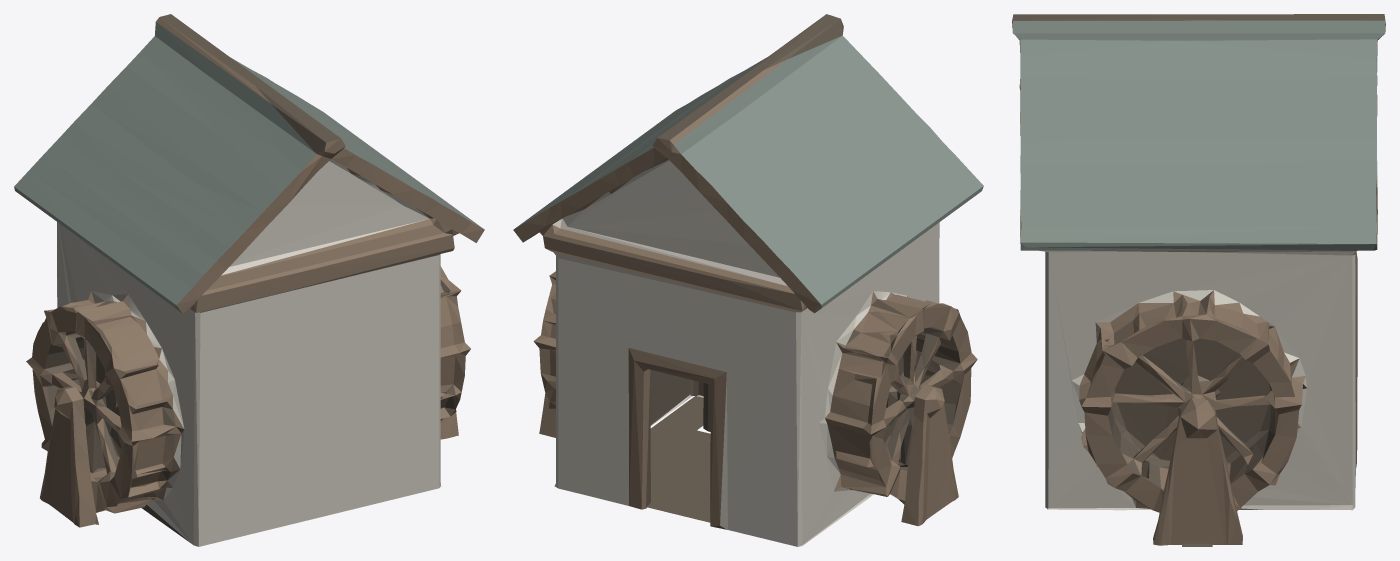
The picture shows the model from 3 angles, left to right: view 1: azimuth 30°, elevation 25°; view 2: azimuth 150°, elevation 25°; view 3: azimuth 270°, elevation 25°; orthographic projection. The views are drawn at different scales.
Visible parts, largest first — view 1: geometry_0; view 2: geometry_0; view 3: geometry_0.
Boxes of the visible parts, x1,y1,x2,y2 form: geometry_0: [14, 14, 484, 546]; geometry_0: [513, 14, 983, 546]; geometry_0: [1012, 14, 1385, 546].
Size of the model in its own units: 0.9825 by 0.9368 by 0.7437.
